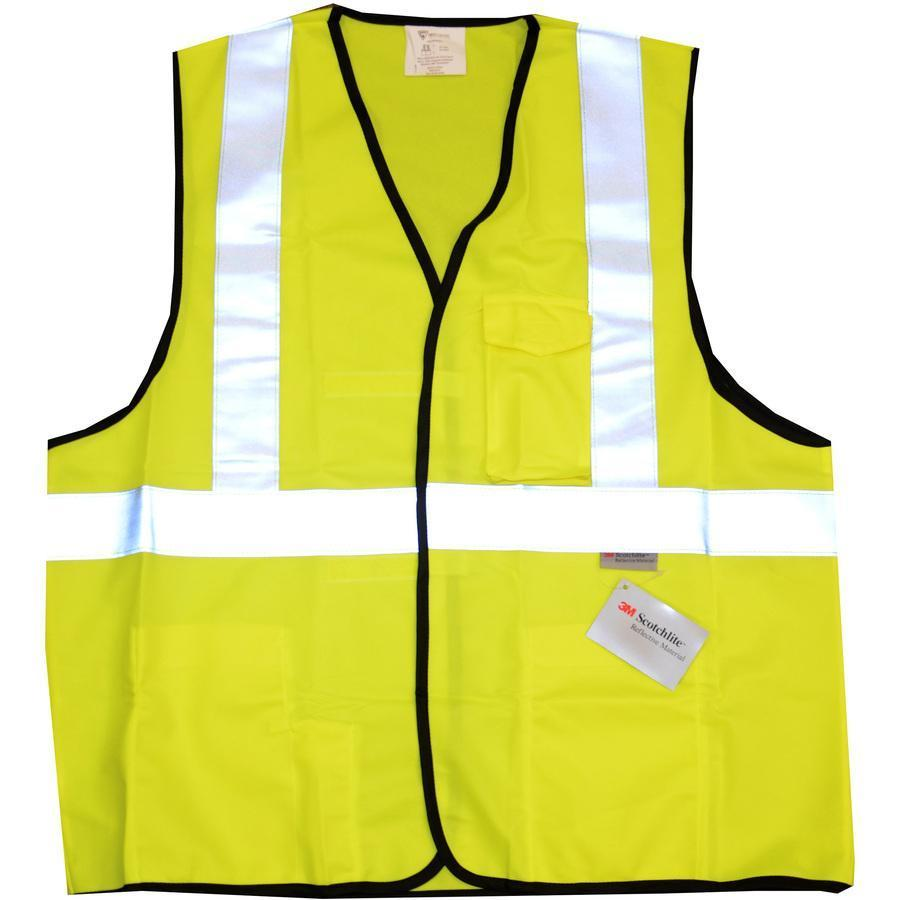vest: (41, 4, 861, 897)
